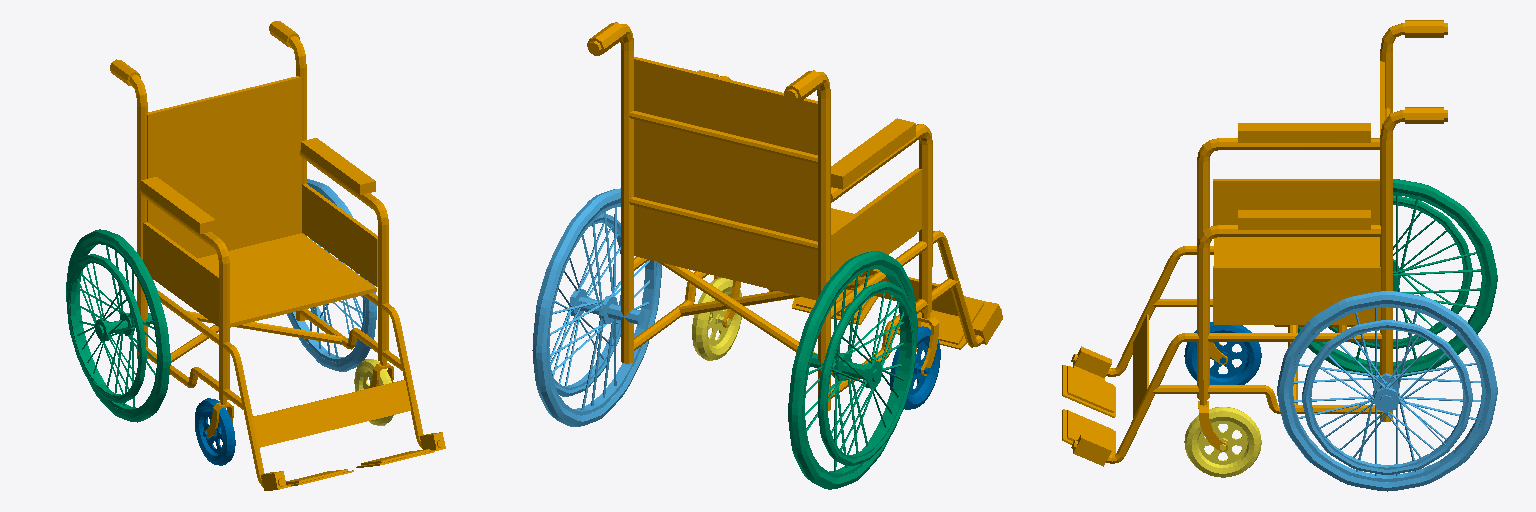
robot.urdf — wheelchair:
<?xml version="1.0" ?>
<robot name="wheelchair">
  <link name="chair_link">
    <inertial>
      <origin xyz="0 0 0" rpy="0 0 0"/>
      <mass value="20"/>
      <inertia ixx="1" ixy="0" ixz="0" iyy="1" iyz="0" izz="1"/>
    </inertial>
    <visual>
      <origin xyz="0 0 0" rpy="0 0 0"/>
      <geometry>
        <mesh filename="meshes/chair.obj" scale="1 1 1"/>
      </geometry>
    </visual>
    <collision>
      <origin xyz="0 0 0" rpy="0 0 0"/>
      <geometry>
        <mesh filename="meshes/chair.obj" scale="1 1 1"/>
      </geometry>
    </collision>
  </link>
  <link name="large_wheel_l_link">
    <inertial>
      <origin xyz="0 0 0" rpy="0 0 0"/>
      <mass value="1"/>
      <inertia ixx="0.05" ixy="0" ixz="0" iyy="0.05" iyz="0" izz="0.05"/>
    </inertial>
    <visual>
      <origin xyz="0 0 0" rpy="0 0 0"/>
      <geometry>
        <mesh filename="meshes/large_wheel_l.obj" scale="1 1 1"/>
      </geometry>
    </visual>
    <collision>
      <origin xyz="0 0 0" rpy="0 1.57079632679 0"/>
      <geometry>
        <cylinder radius="1.12304711" length="0.705194771"/>
      </geometry>
    </collision>
  </link>
  <joint name="large_wheel_l_joint" type="continuous">
    <parent link="chair_link"/>
    <child link="large_wheel_l_link"/>
    <origin xyz="1.21015871 1.02499151 0.0332109928" rpy="0 0 0"/>
    <axis xyz="1 0 0"/>
    <dynamics damping="0.05" friction="0.02"/>
  </joint>
  <link name="large_wheel_r_link">
    <inertial>
      <origin xyz="0 0 0" rpy="0 0 0"/>
      <mass value="1"/>
      <inertia ixx="0.05" ixy="0" ixz="0" iyy="0.05" iyz="0" izz="0.05"/>
    </inertial>
    <visual>
      <origin xyz="0 0 0" rpy="0 0 0"/>
      <geometry>
        <mesh filename="meshes/large_wheel_r.obj" scale="1 1 1"/>
      </geometry>
    </visual>
    <collision>
      <origin xyz="0 0 0" rpy="0 1.57079632679 0"/>
      <geometry>
        <cylinder radius="1.12304711" length="0.705194771"/>
      </geometry>
    </collision>
  </link>
  <joint name="large_wheel_r_joint" type="continuous">
    <parent link="chair_link"/>
    <child link="large_wheel_r_link"/>
    <origin xyz="-1.26152074 1.02499151 0.0332109928" rpy="0 0 0"/>
    <axis xyz="1 0 0"/>
    <dynamics damping="0.05" friction="0.02"/>
  </joint>
  <link name="wheel_l_link">
    <inertial>
      <origin xyz="0 0 0" rpy="0 0 0"/>
      <mass value="1"/>
      <inertia ixx="0.05" ixy="0" ixz="0" iyy="0.05" iyz="0" izz="0.05"/>
    </inertial>
    <visual>
      <origin xyz="0 0 0" rpy="0 0 0"/>
      <geometry>
        <mesh filename="meshes/wheel_l.obj" scale="1 1 1"/>
      </geometry>
    </visual>
    <collision>
      <origin xyz="0 0 0" rpy="0 1.57079632679 0"/>
      <geometry>
        <cylinder radius="0.404823899" length="0.161043406"/>
      </geometry>
    </collision>
  </link>
  <joint name="wheel_l_joint" type="continuous">
    <parent link="chair_link"/>
    <child link="wheel_l_link"/>
    <origin xyz="1.00668621 -0.623962998 -0.674005747" rpy="0 0 0"/>
    <axis xyz="1 0 0"/>
    <dynamics damping="0.05" friction="0.02"/>
  </joint>
  <link name="wheel_r_link">
    <inertial>
      <origin xyz="0 0 0" rpy="0 0 0"/>
      <mass value="1"/>
      <inertia ixx="0.05" ixy="0" ixz="0" iyy="0.05" iyz="0" izz="0.05"/>
    </inertial>
    <visual>
      <origin xyz="0 0 0" rpy="0 0 0"/>
      <geometry>
        <mesh filename="meshes/wheel_r.obj" scale="1 1 1"/>
      </geometry>
    </visual>
    <collision>
      <origin xyz="0 0 0" rpy="0 1.57079632679 0"/>
      <geometry>
        <cylinder radius="0.404823899" length="0.161043406"/>
      </geometry>
    </collision>
  </link>
  <joint name="wheel_r_joint" type="continuous">
    <parent link="chair_link"/>
    <child link="wheel_r_link"/>
    <origin xyz="-1.06136417 -0.623962998 -0.681527019" rpy="0 0 0"/>
    <axis xyz="1 0 0"/>
    <dynamics damping="0.05" friction="0.02"/>
  </joint>
</robot>

--- Render facts (derived) ---
3 views of the same robot in one strip: view 1: azimuth 30°, elevation 25°; view 2: azimuth 150°, elevation 25°; view 3: azimuth 270°, elevation 25° (orthographic).
Model wheelchair with 5 links and 4 joints (4 continuous), rooted at chair_link, posed every joint at zero.
Links seen in each view (by area): view 1: chair_link, large_wheel_r_link, large_wheel_l_link, wheel_r_link, wheel_l_link; view 2: chair_link, large_wheel_r_link, large_wheel_l_link, wheel_l_link, wheel_r_link; view 3: chair_link, large_wheel_l_link, large_wheel_r_link, wheel_l_link, wheel_r_link.
Boxes of the visible links, box(x1,y1,x2,y2) form: chair_link: box(110, 21, 445, 490); large_wheel_r_link: box(66, 229, 170, 422); large_wheel_l_link: box(287, 179, 376, 371); wheel_r_link: box(195, 398, 235, 465); wheel_l_link: box(354, 359, 393, 425); chair_link: box(587, 22, 1002, 410); large_wheel_r_link: box(788, 251, 917, 489); large_wheel_l_link: box(532, 188, 661, 426); wheel_l_link: box(692, 278, 741, 360); wheel_r_link: box(890, 326, 940, 409); chair_link: box(1062, 20, 1447, 466); large_wheel_l_link: box(1277, 291, 1497, 491); large_wheel_r_link: box(1298, 179, 1497, 376); wheel_l_link: box(1184, 407, 1261, 477); wheel_r_link: box(1184, 322, 1261, 384).
Bounding box of the posed robot: 3.18 × 4.37 × 4.1 m (x, y, z).
Meshes: 5 distinct files referenced, 5 mesh visuals loaded (5 OBJ).
